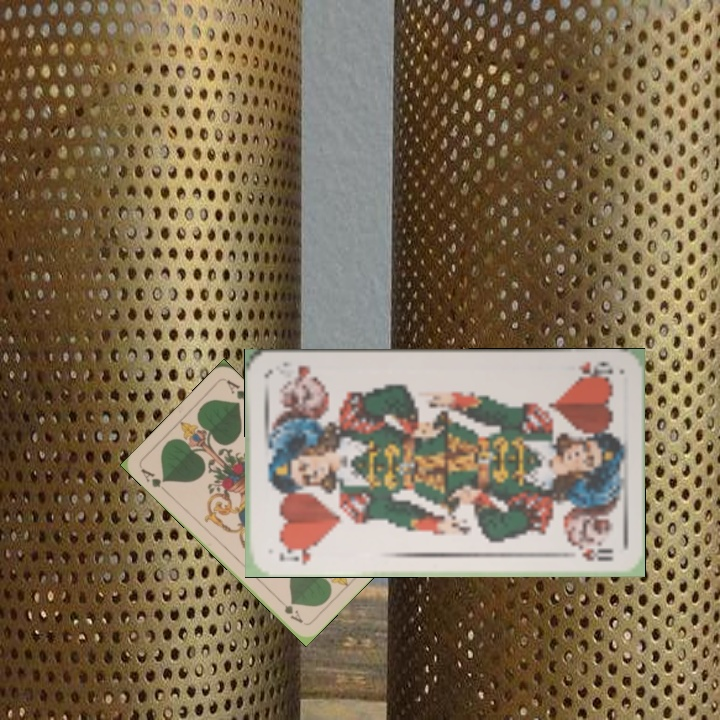GA: (137, 464, 170, 496)
HO: (276, 542, 321, 568), (569, 357, 615, 382)
